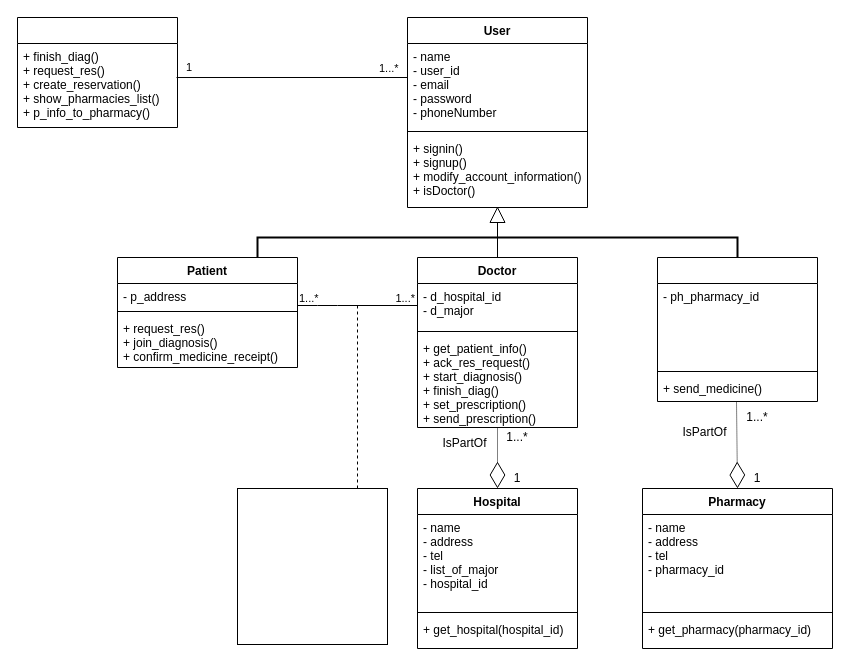
Image size: 850x669. Some labels were removed from this diagram. Each missing label, with the box of its shape:
DB: (16, 16, 178, 128)
Pharmacist: (656, 256, 818, 402)
Reservation - reservation_id - doctor_id - patient_id - date - hour - order: (236, 488, 388, 644)
